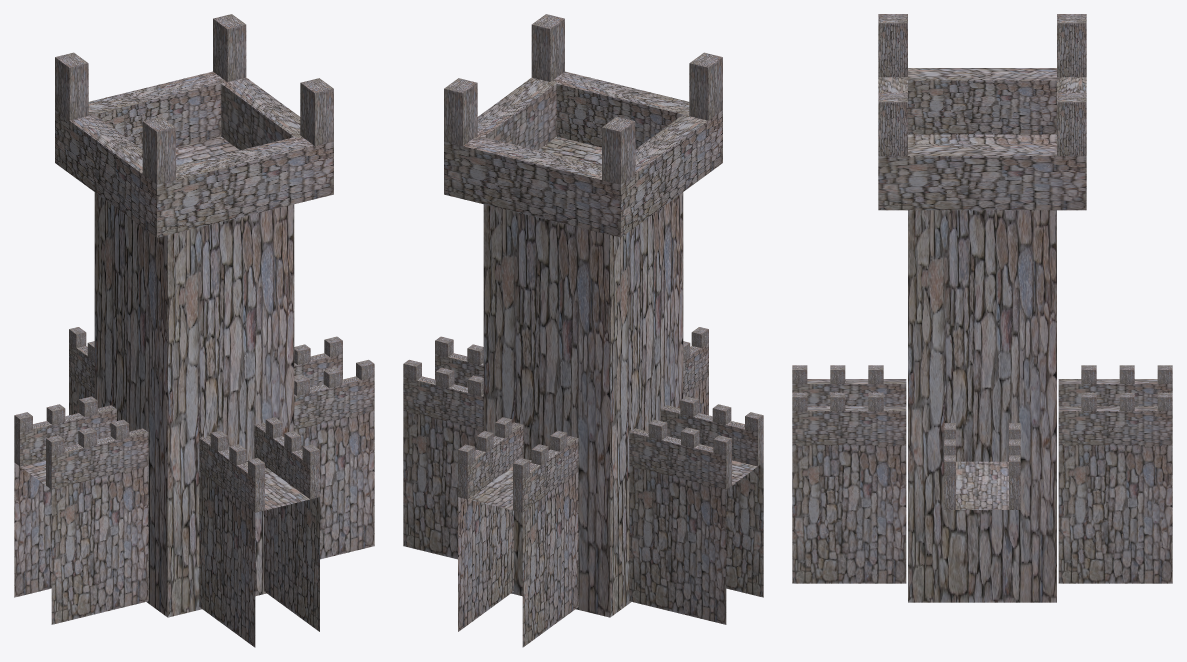
Rendered from Tower.obj.
3 views of the same model, side by side, from view 1: azimuth 30°, elevation 25°; view 2: azimuth 150°, elevation 25°; view 3: azimuth 270°, elevation 25° (orthographic). The views are drawn at different scales.
Visible parts, largest first — view 1: Pillar_Cube.001, Left_wall_Cube.015, Front_walls_Cube.017, Roof_plane_4_Cube.072, Right_wall_Cube.016, Roof_plane_1_Cube.069, Roof_plane_3_Cube.071, Roof_plane_2_Cube.070, Left_guard_2_Cube.027, Right_guard_1_Cube.028, Left_guard_1_Cube.026, Front_guard_1_Cube.058 (+7 smaller); view 2: Pillar_Cube.001, Left_wall_Cube.015, Back_walls_Cube.014, Roof_plane_3_Cube.071, Right_wall_Cube.016, Roof_plane_1_Cube.069, Roof_plane_4_Cube.072, Roof_plane_2_Cube.070, Left_guard_1_Cube.026, Right_guard_2_Cube.029, Left_guard_2_Cube.027, Back_guard_2_Cube.039 (+7 smaller); view 3: Pillar_Cube.001, Back_walls_Cube.014, Front_walls_Cube.017, Roof_plane_2_Cube.070, Roof_plane_1_Cube.069, Back_guard_1_Cube.038, Front_guard_2_Cube.059, Right_wall_Cube.016, Back_guard_2_Cube.039, Front_guard_1_Cube.058, Roof_top_1_Cube.073, Roof_top_2_Cube.074 (+2 smaller).
Part boxes in pixels (bbox=[...]): Pillar_Cube.001: bbox=[94, 136, 294, 617]; Left_wall_Cube.015: bbox=[14, 460, 148, 624]; Front_walls_Cube.017: bbox=[199, 460, 319, 647]; Roof_plane_4_Cube.072: bbox=[157, 137, 333, 237]; Right_wall_Cube.016: bbox=[294, 411, 374, 559]; Roof_plane_1_Cube.069: bbox=[55, 110, 156, 237]; Roof_plane_3_Cube.071: bbox=[88, 71, 223, 149]; Roof_plane_2_Cube.070: bbox=[221, 77, 303, 150]; Left_guard_2_Cube.027: bbox=[46, 428, 148, 489]; Right_guard_1_Cube.028: bbox=[294, 376, 374, 430]; Left_guard_1_Cube.026: bbox=[14, 405, 116, 466]; Front_guard_1_Cube.058: bbox=[199, 436, 264, 512]; Pillar_Cube.001: bbox=[483, 136, 683, 617]; Left_wall_Cube.015: bbox=[629, 460, 763, 624]; Back_walls_Cube.014: bbox=[458, 460, 578, 647]; Roof_plane_3_Cube.071: bbox=[444, 137, 620, 237]; Right_wall_Cube.016: bbox=[403, 411, 483, 559]; Roof_plane_1_Cube.069: bbox=[621, 110, 722, 237]; Roof_plane_4_Cube.072: bbox=[554, 71, 689, 149]; Roof_plane_2_Cube.070: bbox=[474, 77, 556, 150]; Left_guard_1_Cube.026: bbox=[629, 428, 731, 489]; Right_guard_2_Cube.029: bbox=[403, 376, 483, 430]; Left_guard_2_Cube.027: bbox=[661, 405, 763, 466]; Back_guard_2_Cube.039: bbox=[513, 436, 578, 512]; Pillar_Cube.001: bbox=[908, 134, 1056, 602]; Back_walls_Cube.014: bbox=[1058, 445, 1172, 583]; Front_walls_Cube.017: bbox=[792, 445, 906, 583]; Roof_plane_2_Cube.070: bbox=[878, 143, 1086, 210]; Roof_plane_1_Cube.069: bbox=[900, 68, 1063, 134]; Back_guard_1_Cube.038: bbox=[1058, 406, 1172, 445]; Front_guard_2_Cube.059: bbox=[792, 406, 906, 445]; Right_wall_Cube.016: bbox=[956, 461, 1008, 509]; Back_guard_2_Cube.039: bbox=[1058, 379, 1172, 406]; Front_guard_1_Cube.058: bbox=[792, 379, 906, 406]; Roof_top_1_Cube.073: bbox=[1057, 92, 1086, 156]; Roof_top_2_Cube.074: bbox=[878, 92, 907, 156].
Size of the model in its own units: 10 by 14.88 by 10.
1 material, 1 textured.
